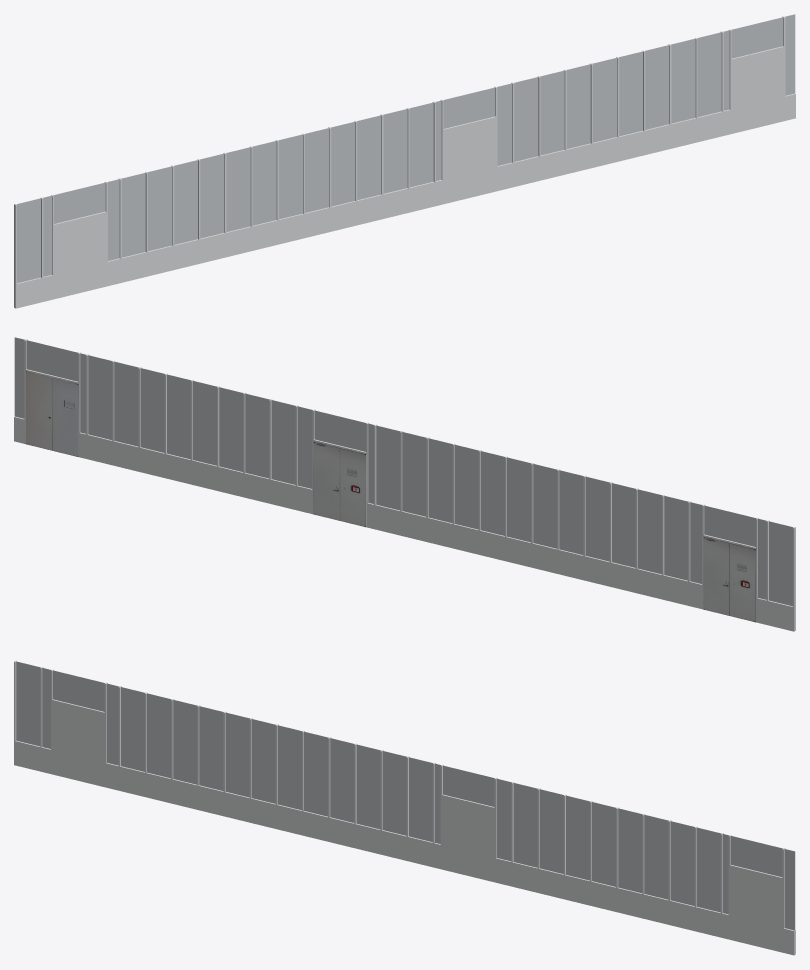
File: room_partition.glb
The picture shows the model from 3 angles, top to bottom: view 1: azimuth 30°, elevation 25°; view 2: azimuth 150°, elevation 25°; view 3: azimuth 330°, elevation 25°; orthographic projection.
Visible parts, largest first — view 1: paint_matte_0, paint_matte_1; view 2: paint_matte_0, paint_matte_1, paint_matte_texture_2, paint_matte_texture_0, paint_matte_texture_1; view 3: paint_matte_0, paint_matte_1.
Part boxes in pixels (x1,y1,x2,y2): paint_matte_0: (14,14,795,283); paint_matte_1: (14,16,795,308); paint_matte_0: (14,337,794,606); paint_matte_1: (14,339,795,631); paint_matte_texture_2: (26,371,78,456); paint_matte_texture_0: (703,537,755,622); paint_matte_texture_1: (313,441,365,527); paint_matte_0: (16,661,795,930); paint_matte_1: (14,660,795,955).
Bounding box in the file's own units: 26.83 × 3.4 × 0.102.
5 materials, 3 textured.
